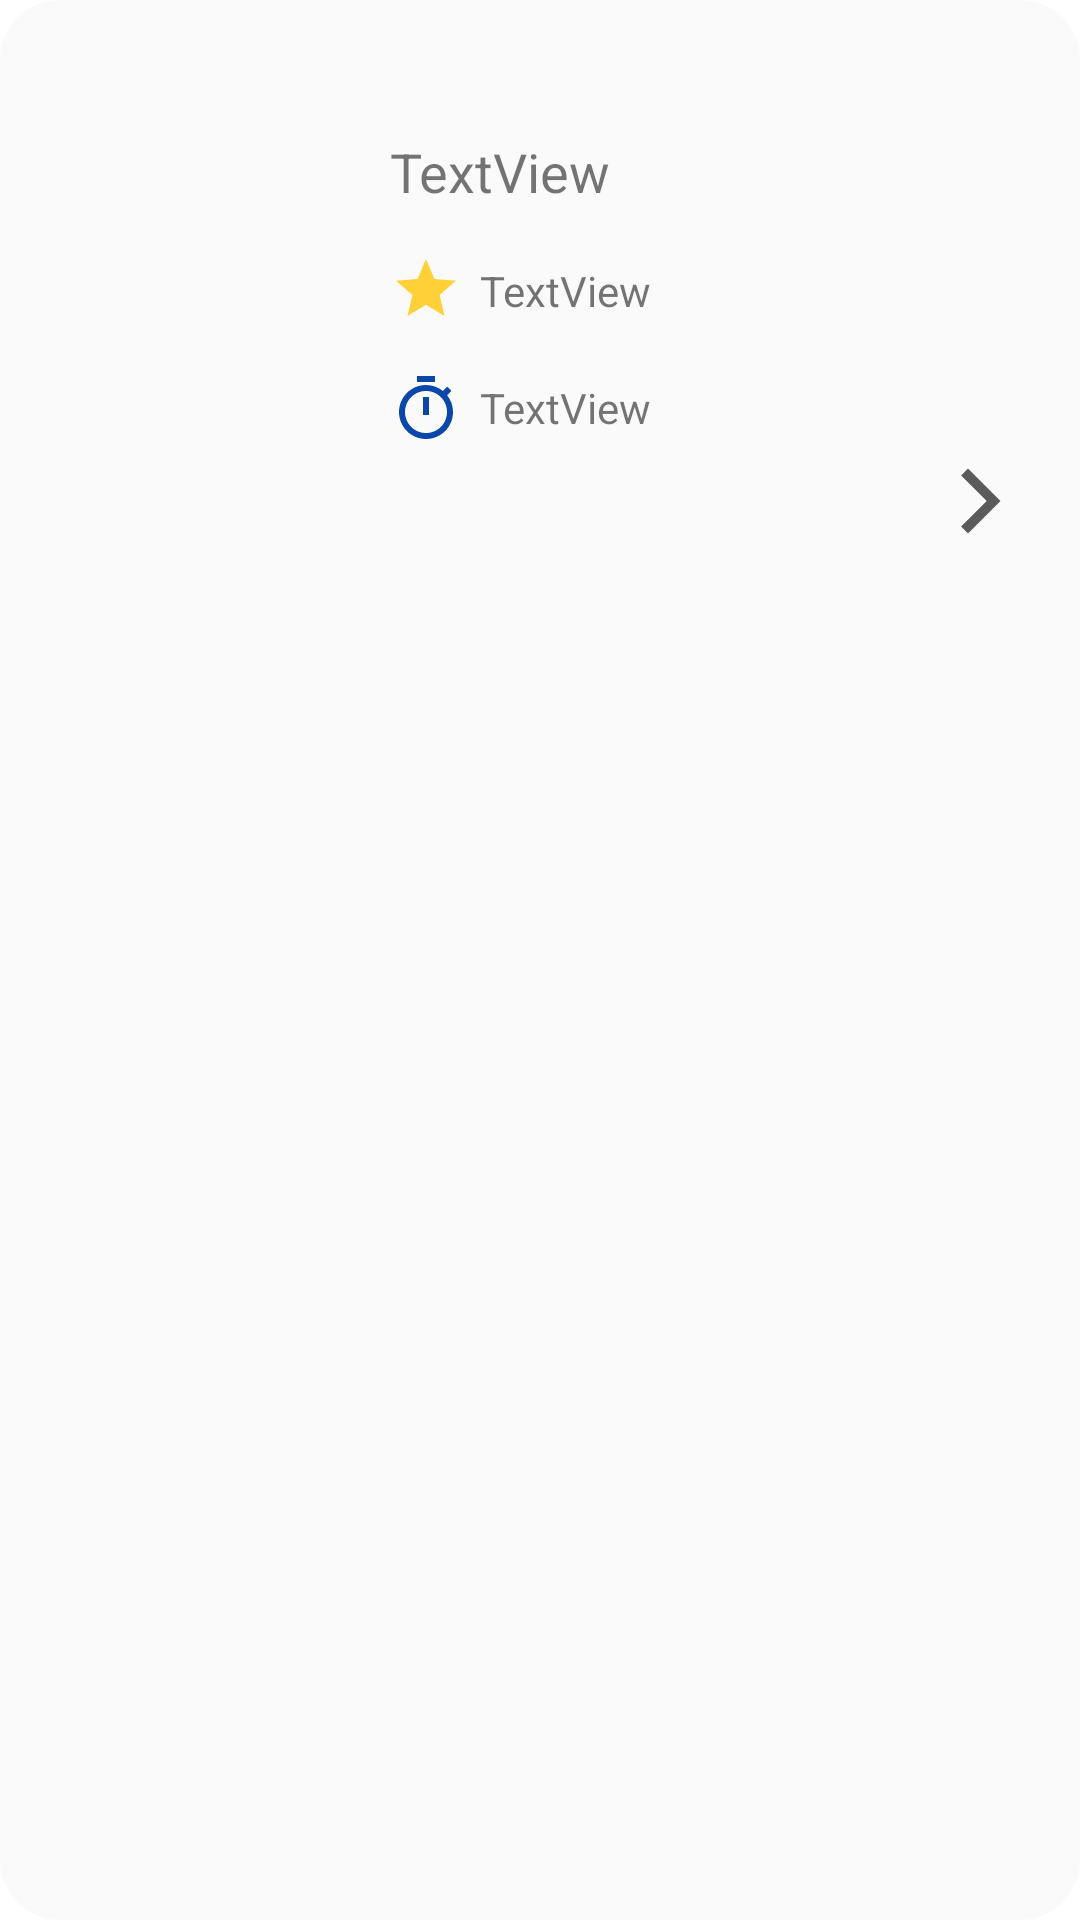

Named icons in this screenshot (1080w x 1920h) and their centers, (x,y):
arrow: (980,501)
timer: (426,407)
